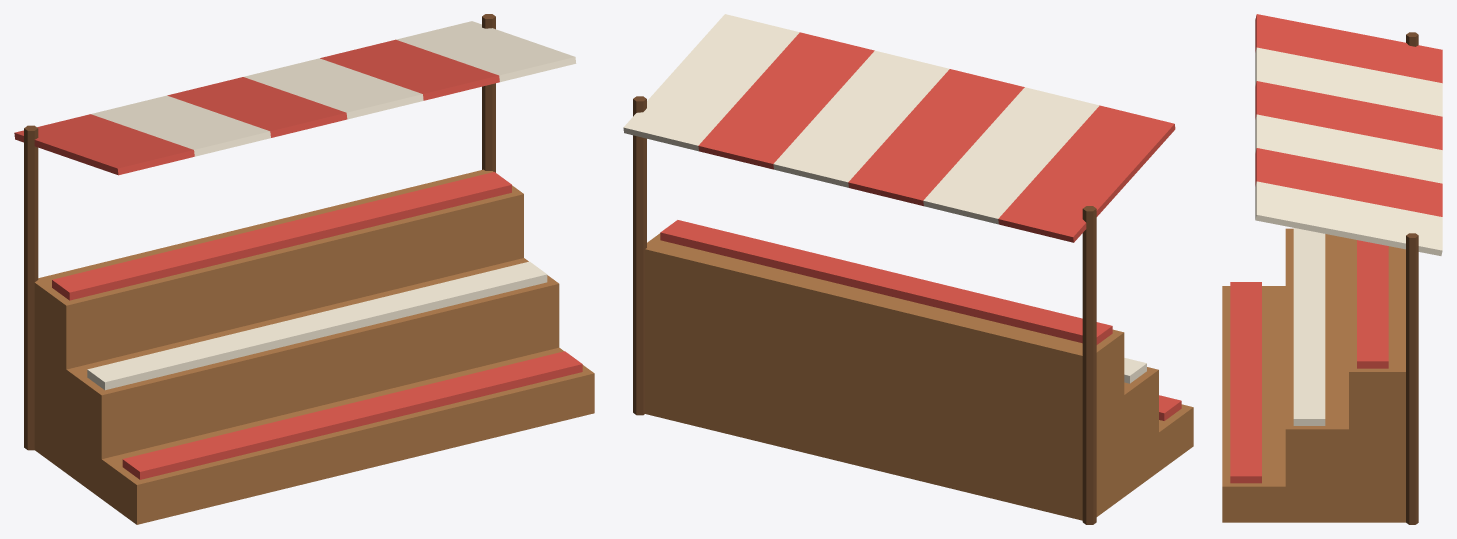
File: bleachers.glb
3 renders of one model, left to right at view 1: azimuth 30°, elevation 25°; view 2: azimuth 150°, elevation 25°; view 3: azimuth 270°, elevation 25°, orthographic. The views are drawn at different scales.
Parts seen in each view (by area): view 1: bleachers; view 2: bleachers; view 3: bleachers.
Part boxes in pixels (left/top/right/bottom): bleachers: left=14, top=14, right=594, bottom=524; bleachers: left=623, top=14, right=1193, bottom=524; bleachers: left=1222, top=14, right=1442, bottom=524.
Bounding box in the file's own units: 6.14 × 4.29 × 2.78.
